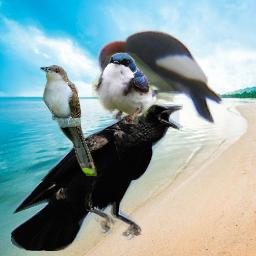Crow: (11, 102, 183, 251)
Cuckoo: (40, 65, 97, 176)
Swallow: (92, 52, 174, 124)
Woodpecker: (93, 27, 227, 127)
